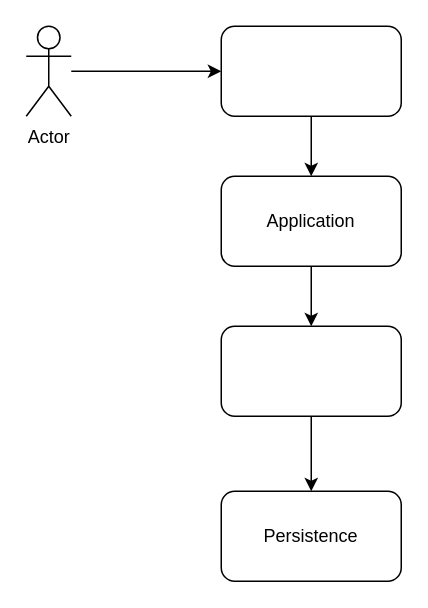
Some shapes in this 428 by 608 pixel diagram are drawn without their labels. The centre of each missing label's shape, as x and y in pixels:
Domain: [310,370]
Presentation: [310,70]
